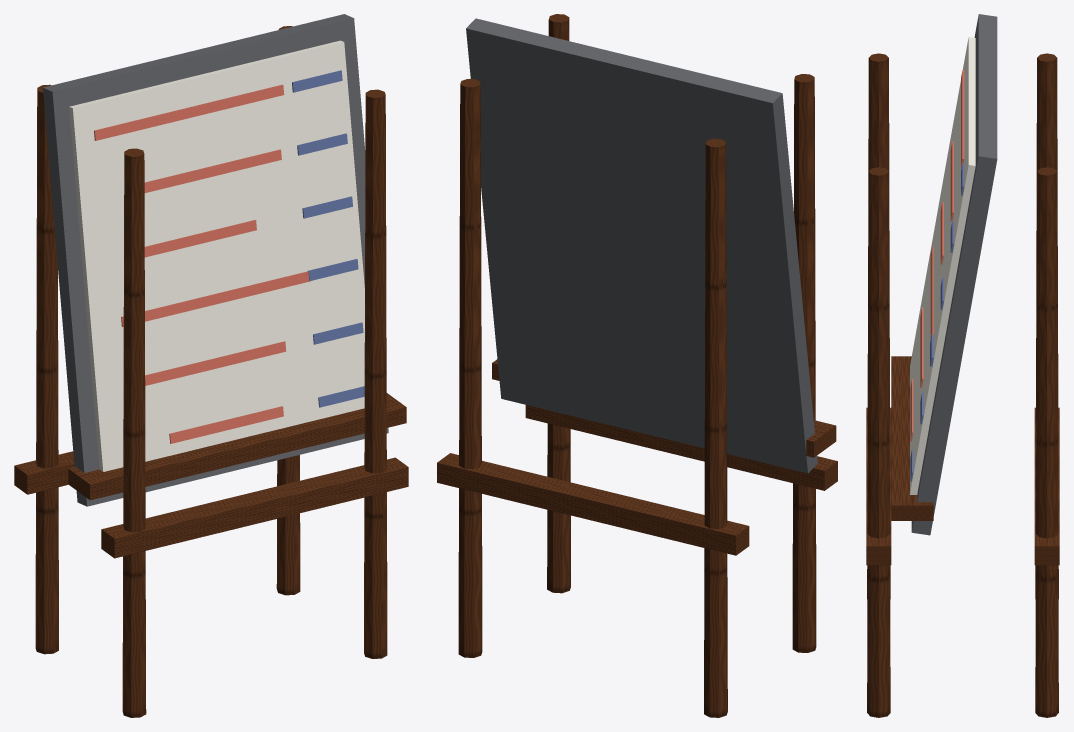
Rendered from menu_board_on_an_easel.glb.
3 renders of one model, left to right at view 1: azimuth 30°, elevation 25°; view 2: azimuth 150°, elevation 25°; view 3: azimuth 270°, elevation 25°, orthographic. The views are drawn at different scales.
Visible parts, largest first — view 1: menu-board-on-easel-cream, menu-board-on-easel-darkwood, menu-board-on-easel-charcoal, menu-board-on-easel-vermilion, menu-board-on-easel-indigo; view 2: menu-board-on-easel-charcoal, menu-board-on-easel-darkwood; view 3: menu-board-on-easel-darkwood, menu-board-on-easel-charcoal, menu-board-on-easel-cream, menu-board-on-easel-vermilion, menu-board-on-easel-indigo.
Part boxes in pixels (x1=…): menu-board-on-easel-cream: x1=69, y1=40, x2=364, y2=471; menu-board-on-easel-darkwood: x1=14, y1=26, x2=408, y2=717; menu-board-on-easel-charcoal: x1=43, y1=14, x2=388, y2=506; menu-board-on-easel-vermilion: x1=94, y1=84, x2=310, y2=443; menu-board-on-easel-indigo: x1=292, y1=70, x2=364, y2=407; menu-board-on-easel-charcoal: x1=466, y1=18, x2=817, y2=473; menu-board-on-easel-darkwood: x1=437, y1=14, x2=837, y2=717; menu-board-on-easel-darkwood: x1=866, y1=53, x2=1059, y2=717; menu-board-on-easel-charcoal: x1=911, y1=14, x2=997, y2=535; menu-board-on-easel-cream: x1=910, y1=37, x2=975, y2=494; menu-board-on-easel-vermilion: x1=910, y1=70, x2=964, y2=441; menu-board-on-easel-indigo: x1=910, y1=163, x2=964, y2=481.
Bounding box in the file's own units: 0.8399 × 1.5 × 0.4599.
5 materials, 1 textured.
